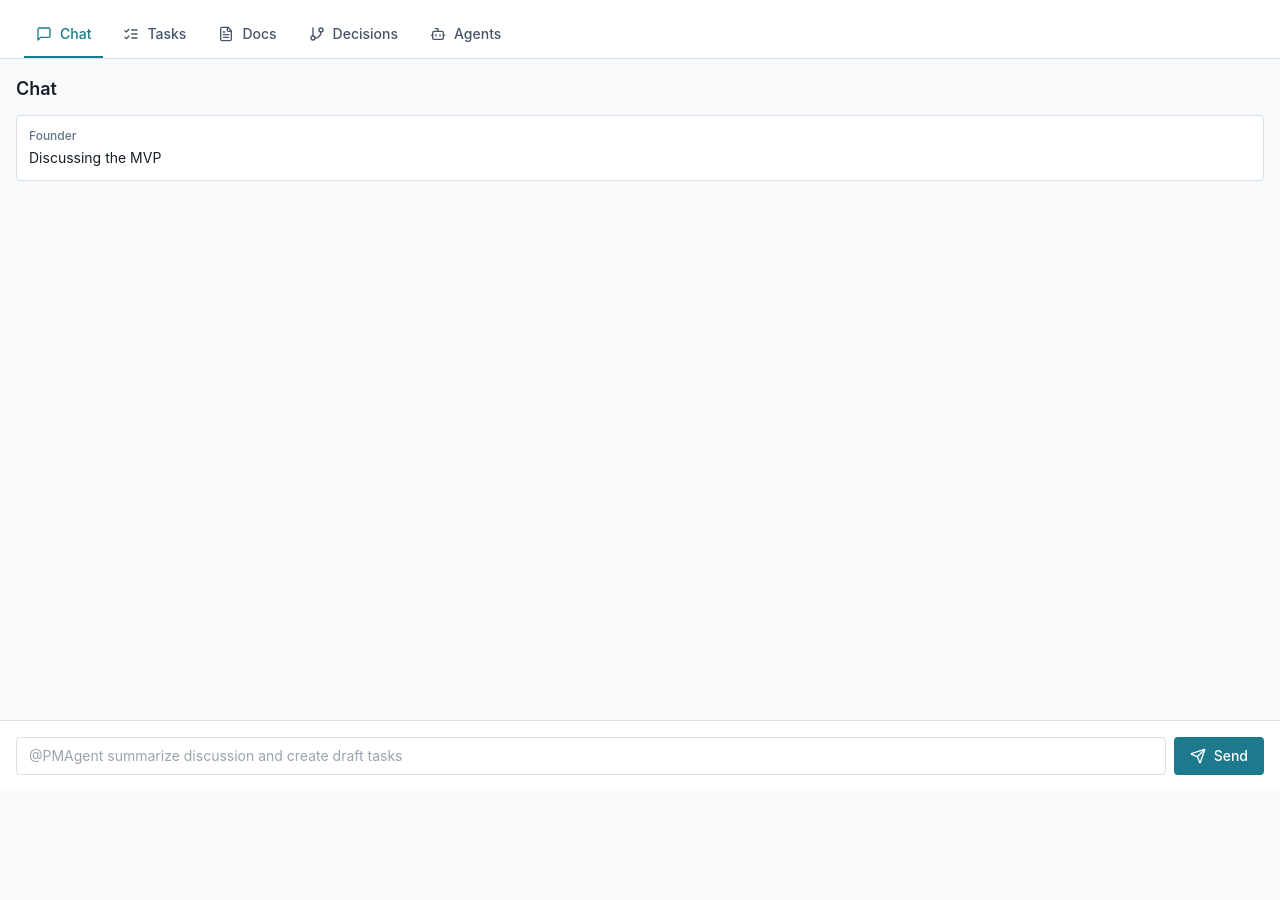
Test case: RoomTabs › suggests room agents when the user types @ in chat
Type "@" into the field with placeholder "@PMAgent summarize discussion and create draft tasks" at (591, 756), box 16,737 -> 1166,775
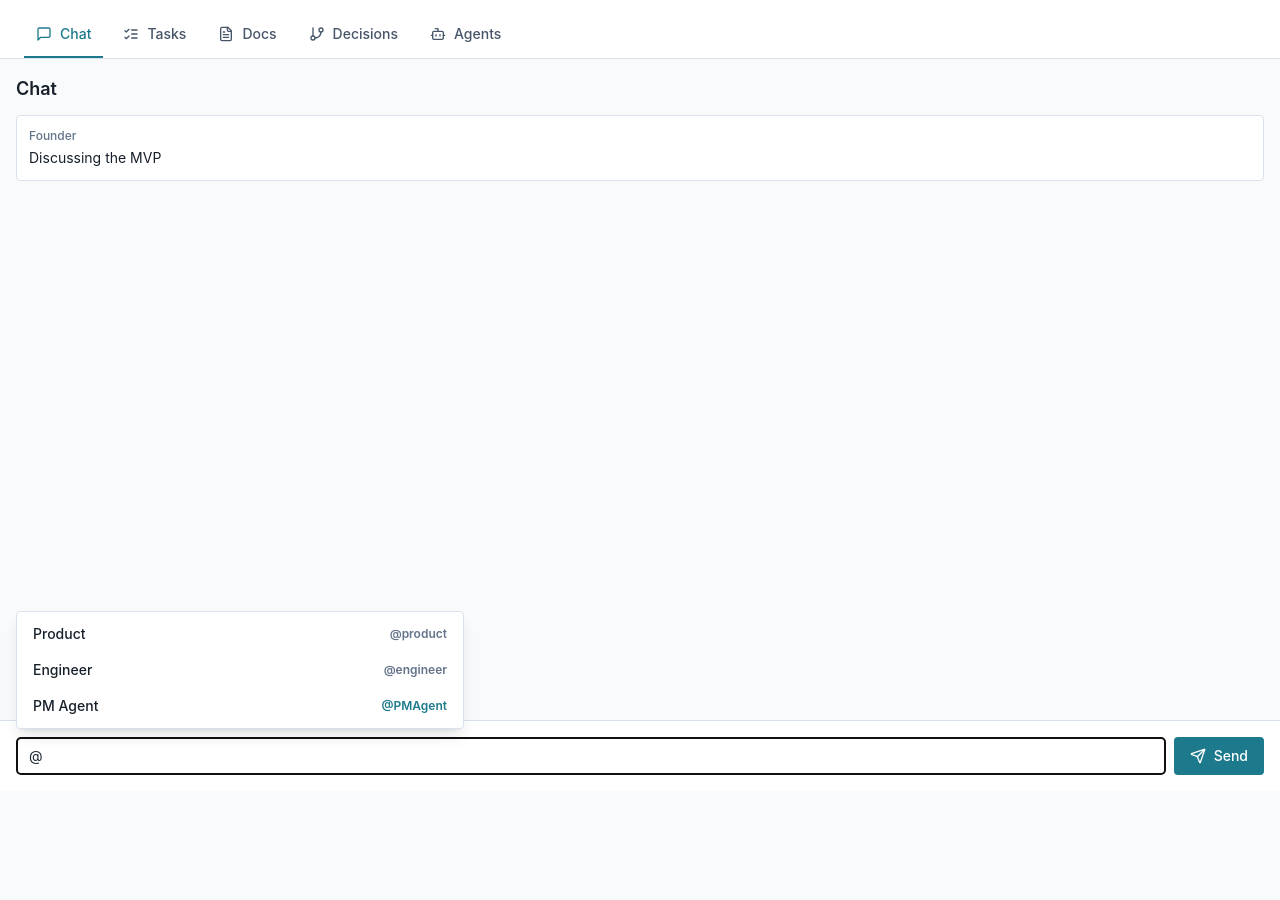
Click the button "PM Agent @PMAgent" at (66, 706), box 21,688 -> 459,724
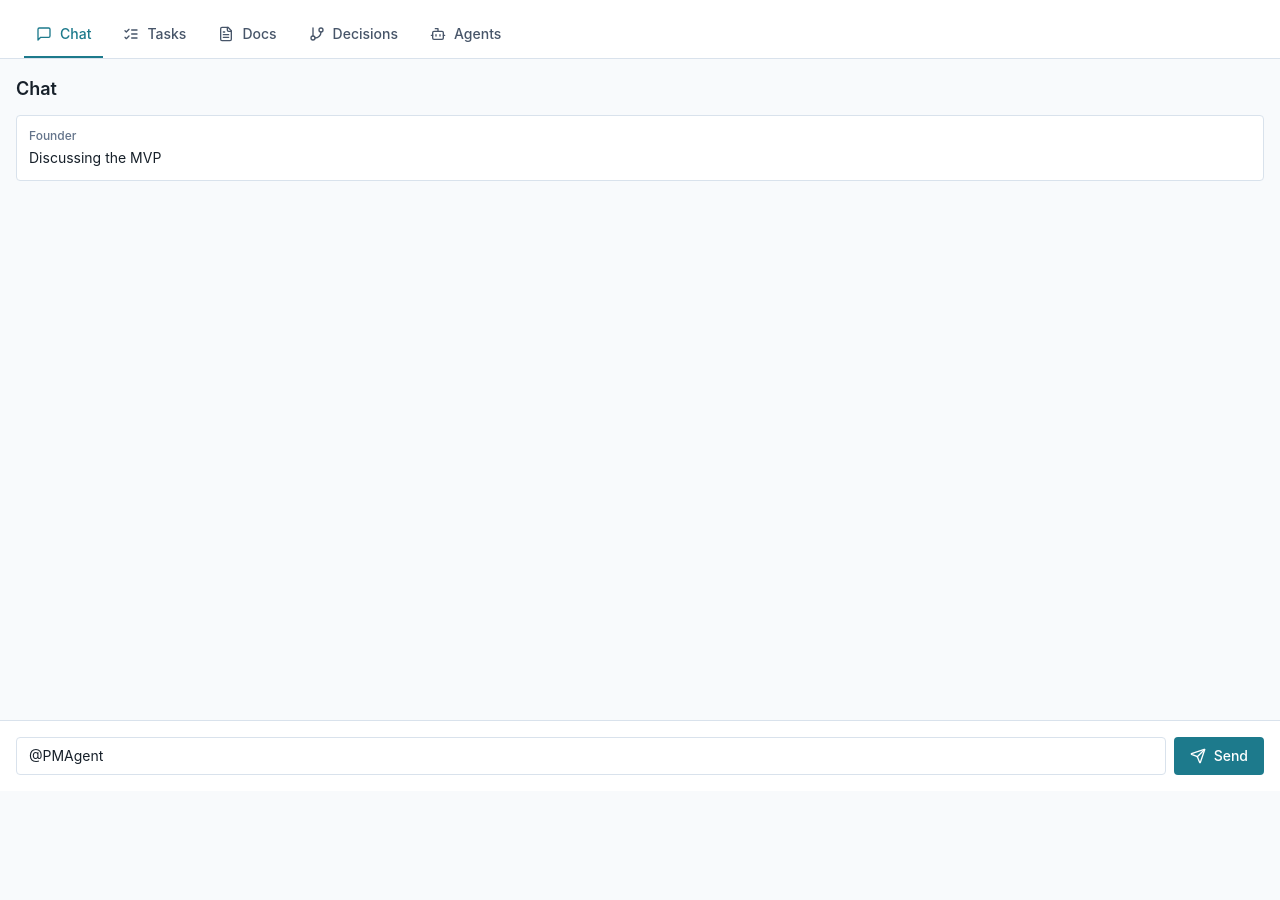
Now the field holds "@PMAgent ", box 16,737 -> 1166,775
